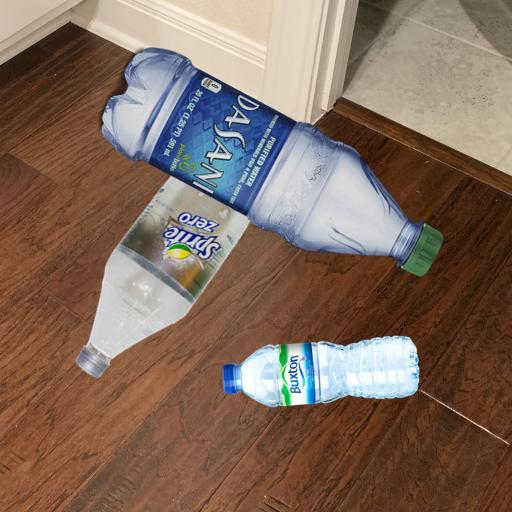bottle: (65, 37, 447, 427)
